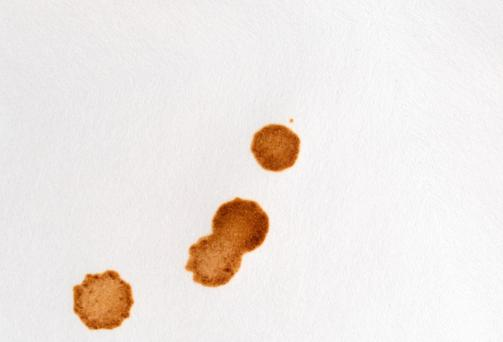stain: (183, 194, 272, 292), (69, 268, 136, 334), (249, 122, 305, 177)
